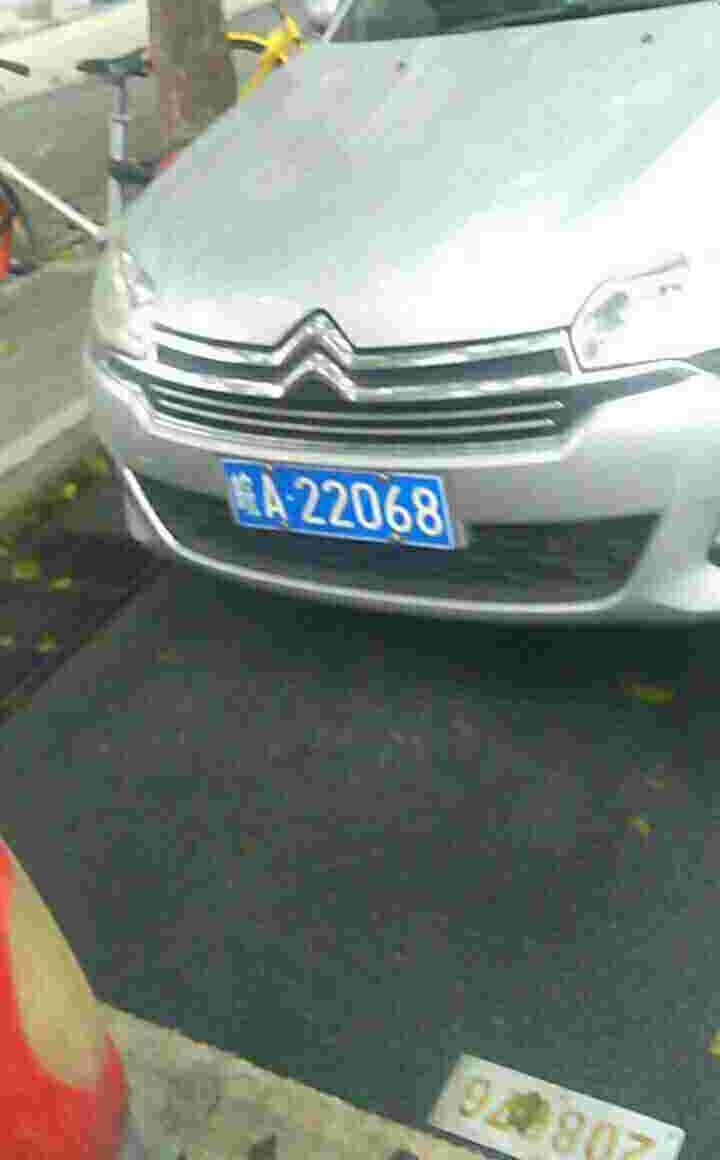license_plate: (233, 461, 456, 553)
